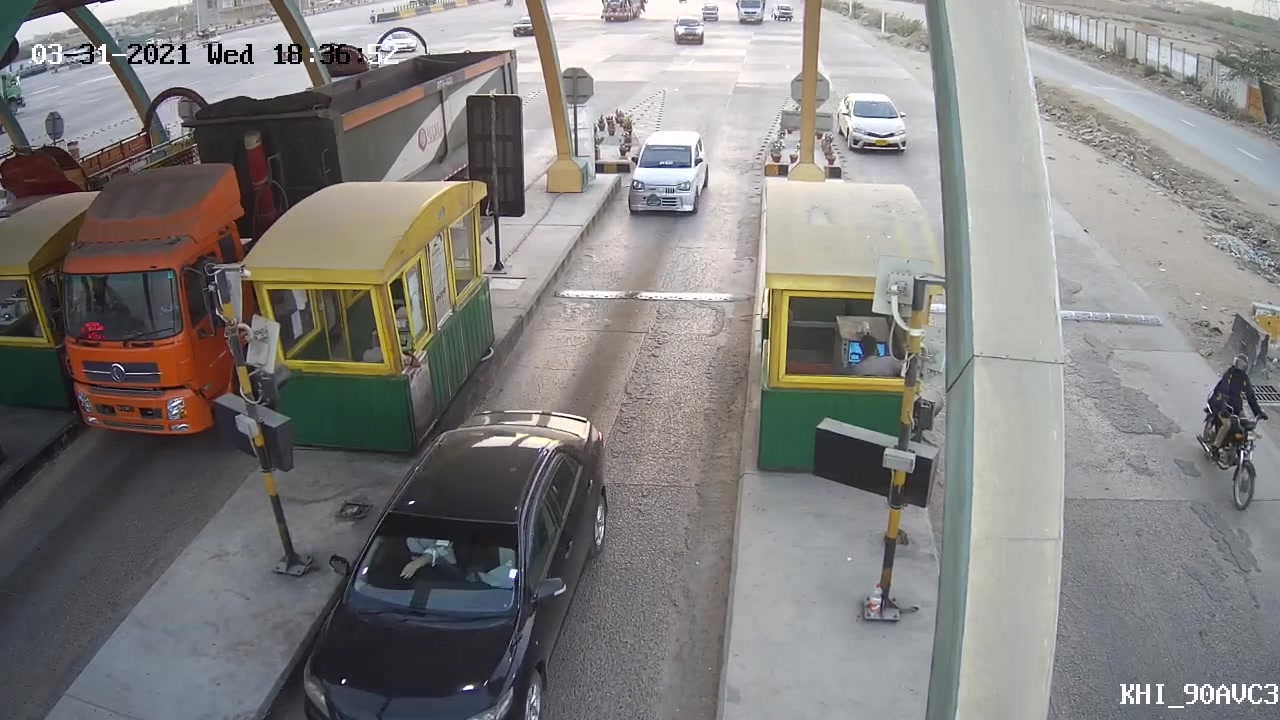F1: (615, 124, 715, 223)
